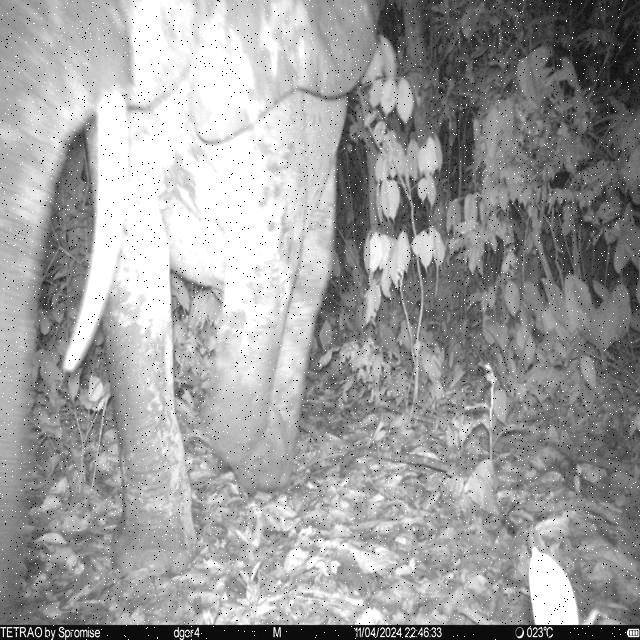ear: (192, 0, 380, 148)
elephant: (1, 1, 382, 582)
tusk: (61, 95, 129, 374)
